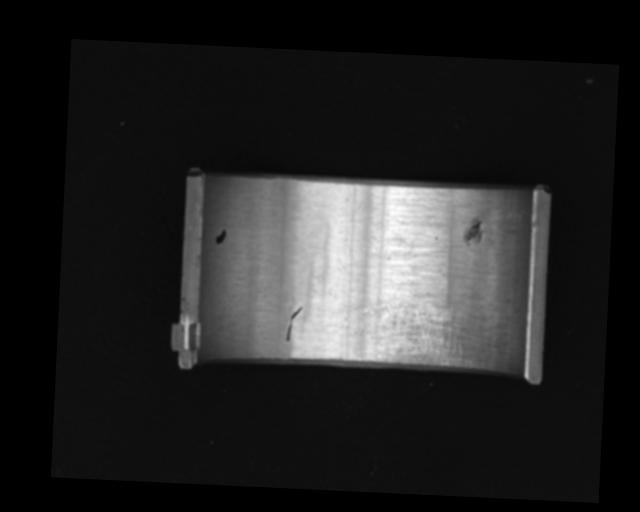blot: (214, 228, 227, 246)
bruise: (462, 217, 484, 247)
nick: (285, 306, 302, 343)
scratch: (347, 294, 476, 367)
